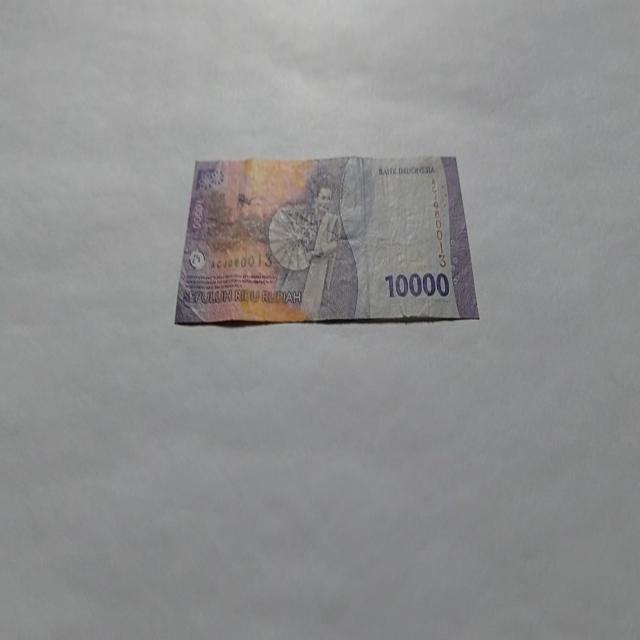sepuluh ribu rupiah: (172, 153, 480, 327), (384, 270, 451, 300)
